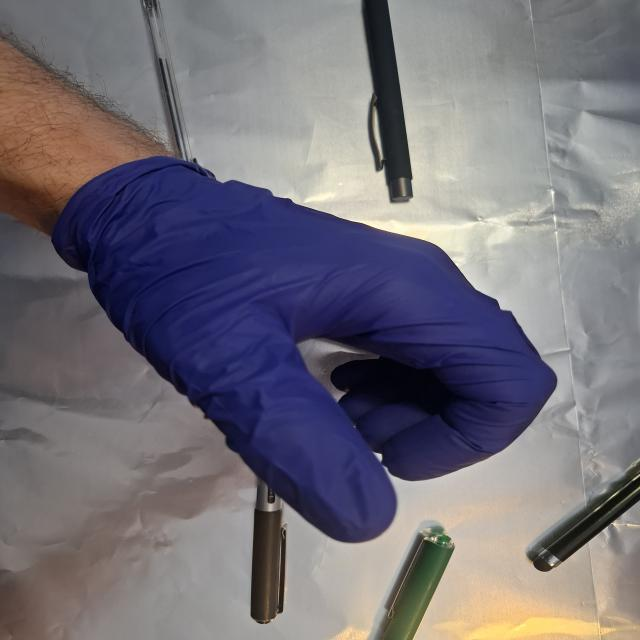glove_on: (50, 154, 562, 546)
